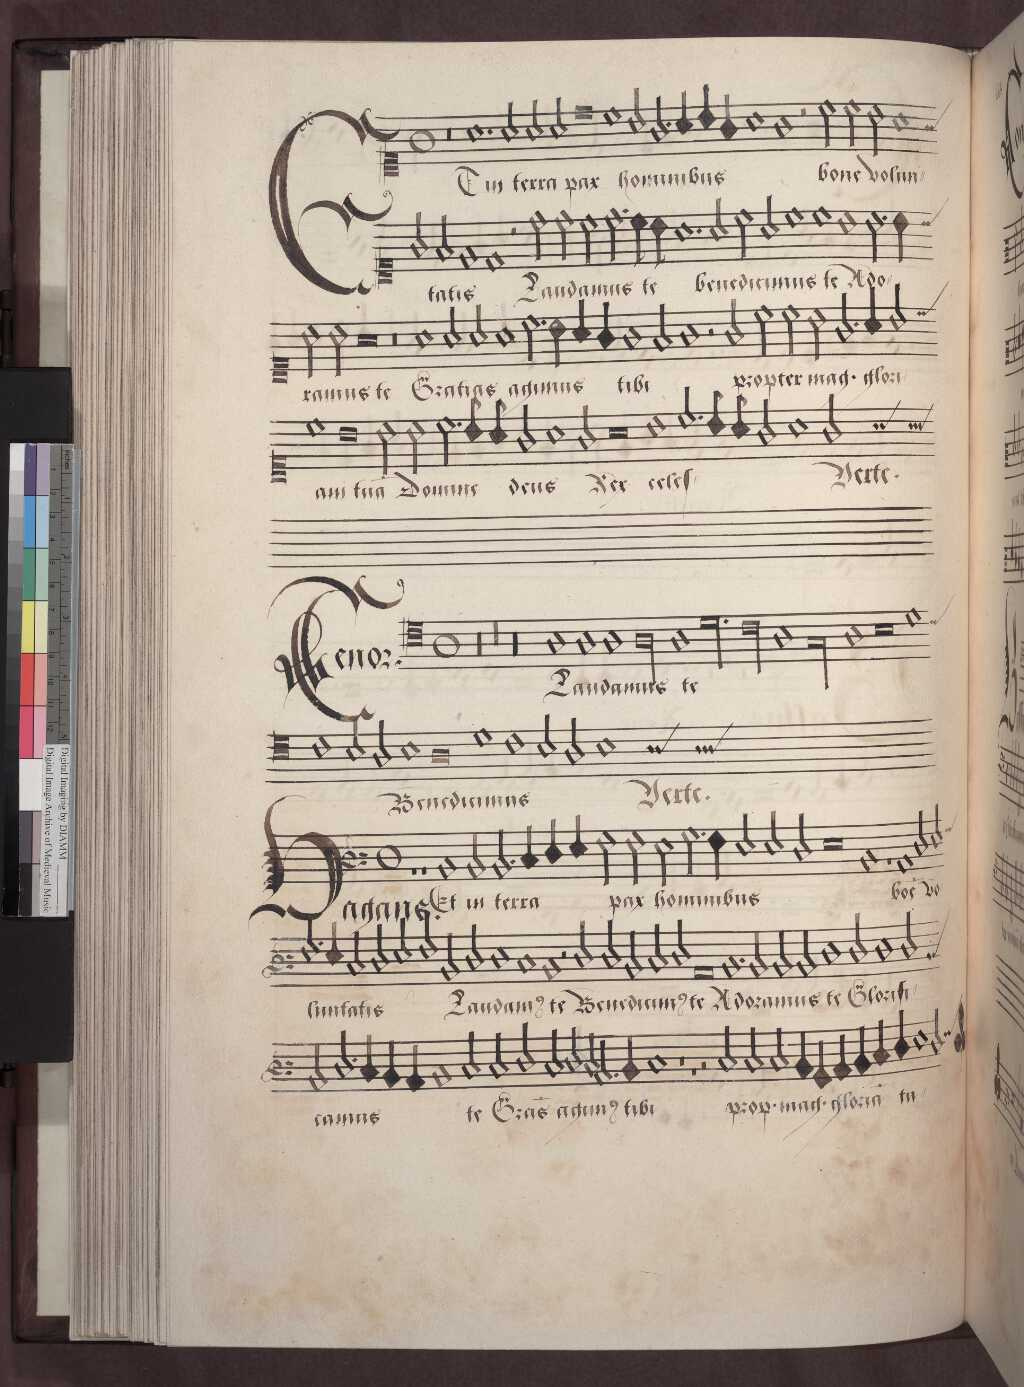breve rest: (385, 311, 403, 378)
breve_6: (350, 322, 383, 356)
c clef_11: (264, 340, 296, 397)
custos_4: (912, 281, 949, 333)
minim rest: (703, 299, 718, 365)
minim_4: (751, 293, 774, 362), (517, 305, 541, 368), (778, 296, 801, 361)
minim_5: (298, 313, 322, 383), (805, 300, 828, 364), (327, 314, 349, 380), (887, 277, 910, 339)
minim_6: (441, 300, 465, 358), (466, 299, 489, 355)
minim_7: (721, 288, 745, 354), (833, 286, 855, 350)
minim_8: (651, 293, 674, 359)
point: (848, 312, 864, 335), (534, 311, 548, 330)
semibreve_6: (410, 317, 435, 358), (492, 316, 513, 354)
semibreve_7: (677, 311, 703, 358), (619, 314, 644, 358)
semiminim_5: (546, 308, 569, 374)
semiminim_6: (570, 292, 594, 354), (862, 282, 884, 344)
semiminim_7: (597, 291, 616, 359)
